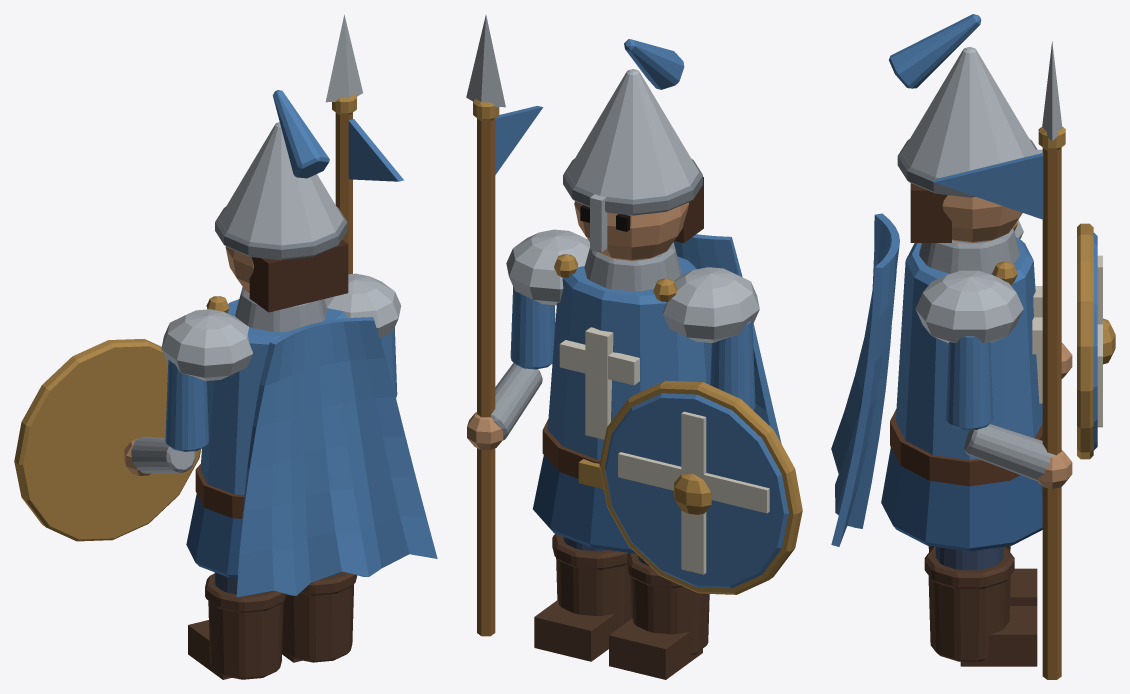
File: guard.glb
3 renders of one model, left to right at view 1: azimuth 30°, elevation 25°; view 2: azimuth 150°, elevation 25°; view 3: azimuth 270°, elevation 25°, orthographic. The views are drawn at different scales.
Parts seen in each view (by area): view 1: GuardCape, GuardBody, GuardArmShield, GuardLegL, GuardArmSpear, GuardLegR; view 2: GuardBody, GuardArmShield, GuardArmSpear, GuardLegR, GuardLegL, GuardCape; view 3: GuardBody, GuardArmSpear, GuardLegR, GuardCape, GuardArmShield, GuardLegL.
Boxes of the visible parts, x1,y1,x2,y2 form: GuardCape: [236, 317, 437, 597]; GuardBody: [161, 90, 401, 578]; GuardArmShield: [14, 339, 208, 541]; GuardLegL: [188, 572, 286, 679]; GuardArmSpear: [325, 14, 403, 397]; GuardLegR: [282, 571, 357, 662]; GuardBody: [506, 39, 759, 553]; GuardArmShield: [599, 320, 802, 594]; GuardArmSpear: [466, 14, 555, 636]; GuardLegR: [534, 534, 631, 661]; GuardLegL: [609, 553, 709, 679]; GuardCape: [673, 234, 781, 443]; GuardBody: [881, 14, 1042, 551]; GuardArmSpear: [934, 41, 1072, 679]; GuardLegR: [924, 546, 1037, 666]; GuardCape: [831, 213, 899, 546]; GuardArmShield: [1061, 223, 1115, 459]; GuardLegL: [928, 546, 1037, 605].
Bounding box in the file's own units: 0.846 × 1.45 × 0.5792.
